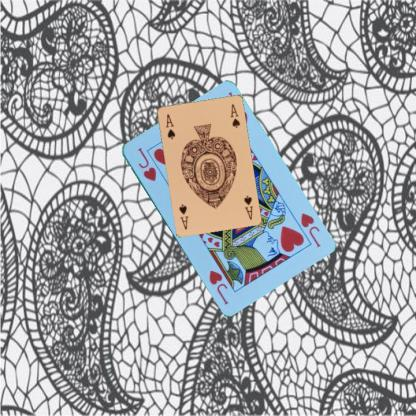As: (163, 111, 176, 140), (241, 192, 254, 221)
Jh: (298, 210, 321, 248), (135, 144, 157, 182)
